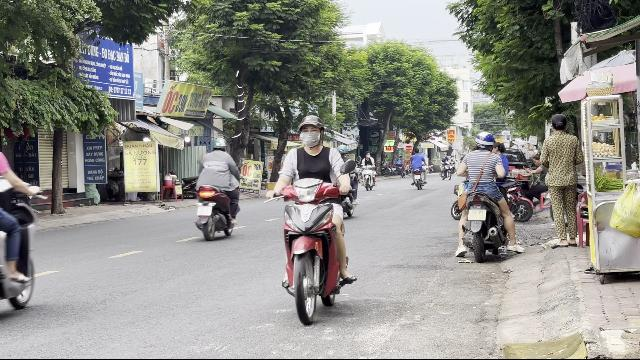helmet: (297, 115, 325, 146), (474, 132, 496, 150), (210, 137, 226, 151)
licenseplate: (468, 210, 487, 220), (197, 207, 211, 216)
motorcyclist: (270, 112, 358, 320), (449, 130, 519, 262), (192, 136, 240, 239)
